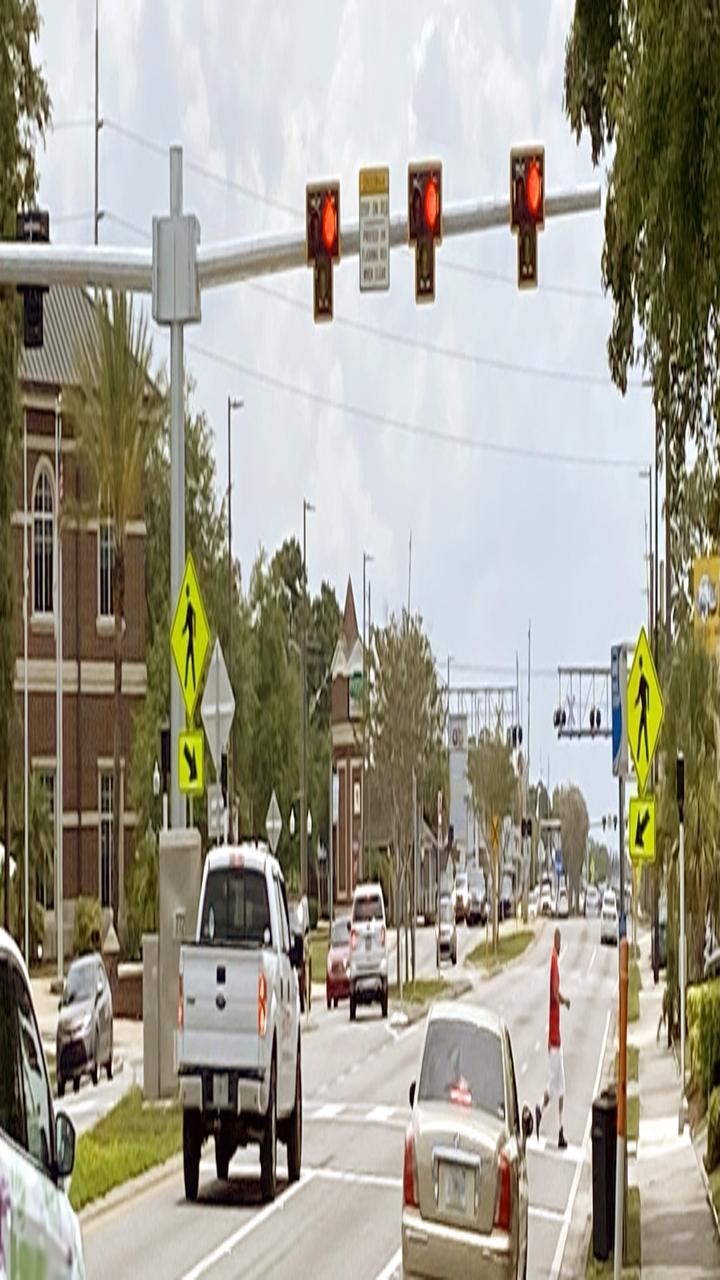Traffic sign: (603, 623, 692, 785), (266, 167, 347, 327), (382, 157, 463, 317), (482, 137, 563, 297), (156, 552, 226, 712), (170, 727, 227, 809), (622, 800, 666, 869)
pedestrian: (527, 927, 596, 1155)
vehicle: (168, 827, 342, 1213), (391, 1003, 548, 1280), (326, 865, 414, 1047), (44, 944, 131, 1095)
